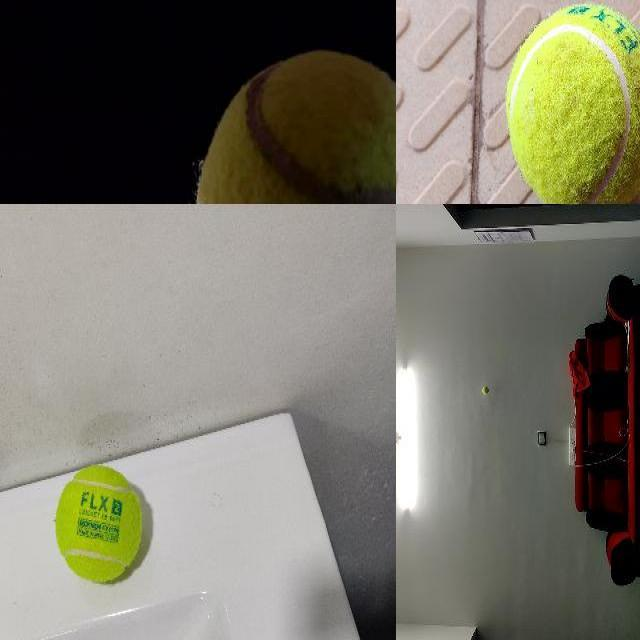tennis-ball: (193, 45, 395, 203), (506, 4, 639, 202), (55, 465, 143, 583), (482, 386, 489, 396)
